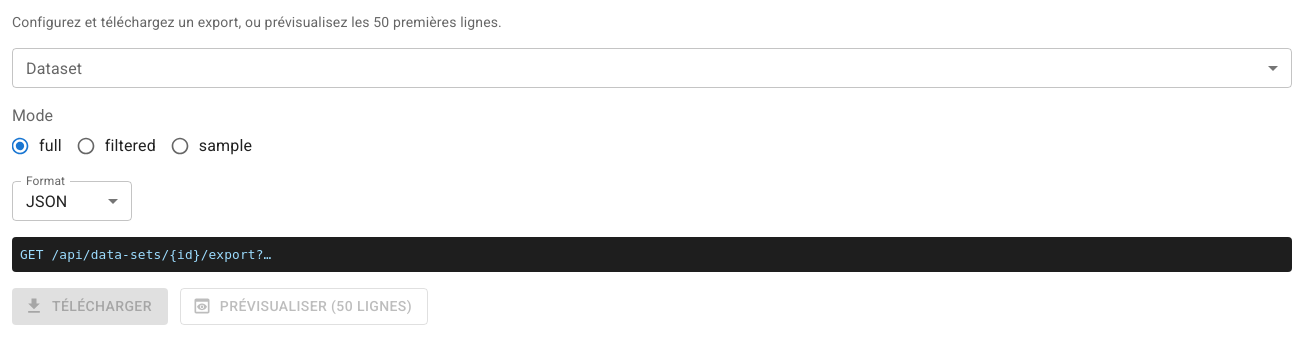
Test: ExtractionTab › renders dataset selector with provided datasets
This screenshot has width=1292, height=342.
Press the mouse on the dropdown named "dataset": (652, 68) top-left (12, 48), bottom-right (1291, 88)
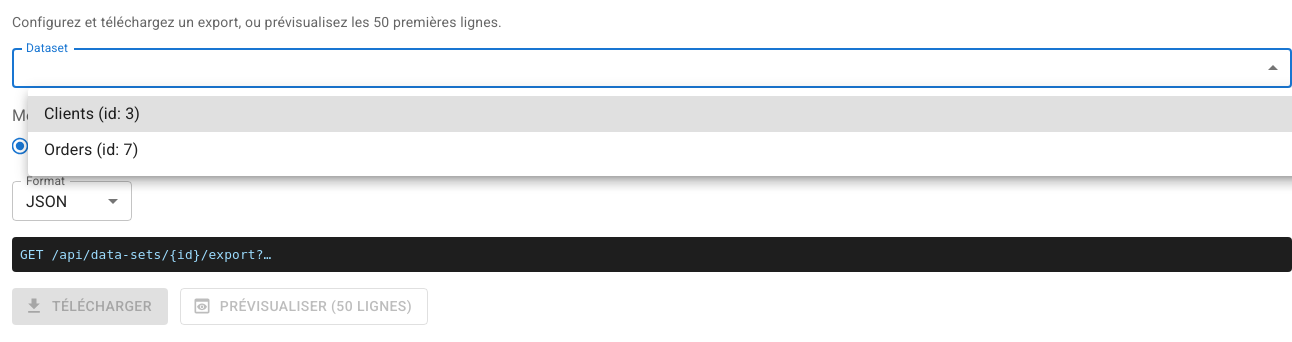
Expected: the option "Orders (id: 7)" is shown, top-left (44, 140), bottom-right (138, 159)
